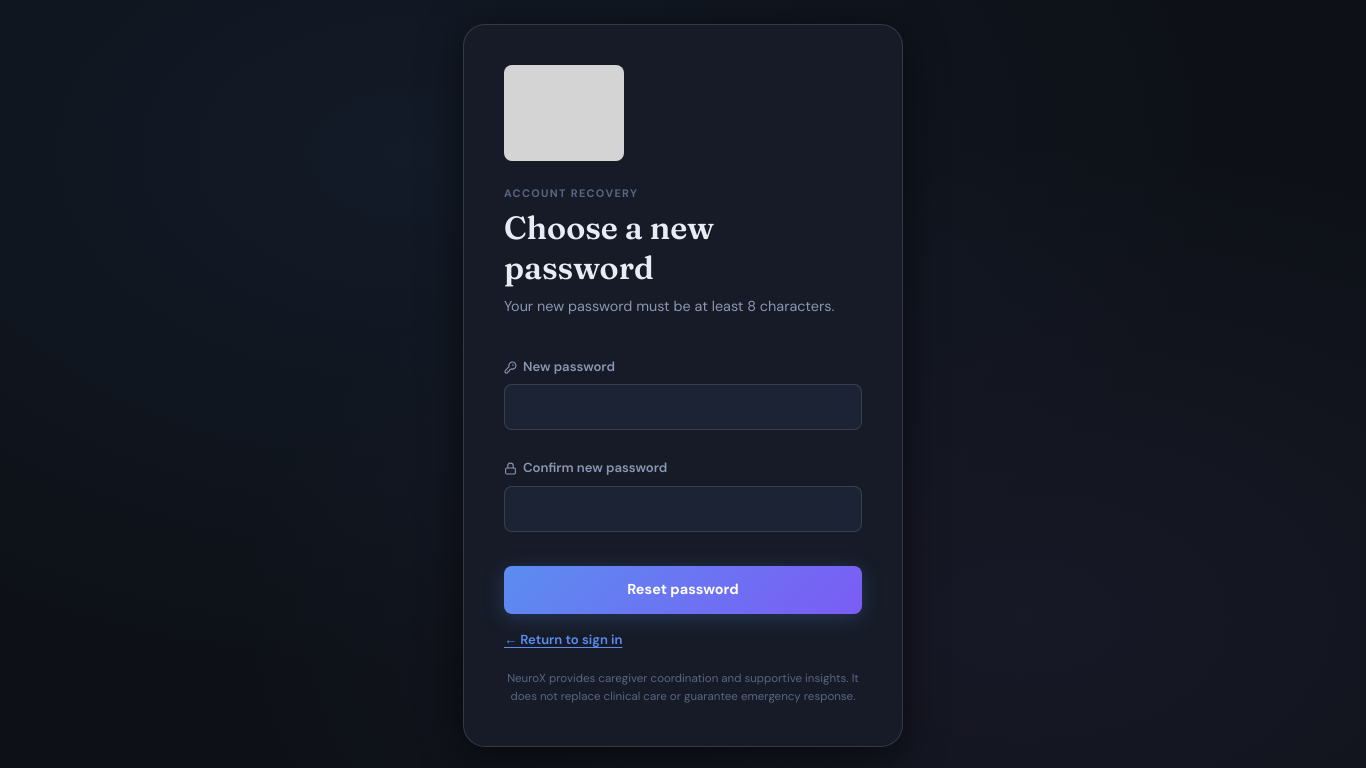
Scenario: account recovery pages › confirms a password reset token
This screenshot has width=1366, height=768.
Type "Replacement!456" into the password field labelled "New password" at [683, 407], box [504, 384, 862, 430]
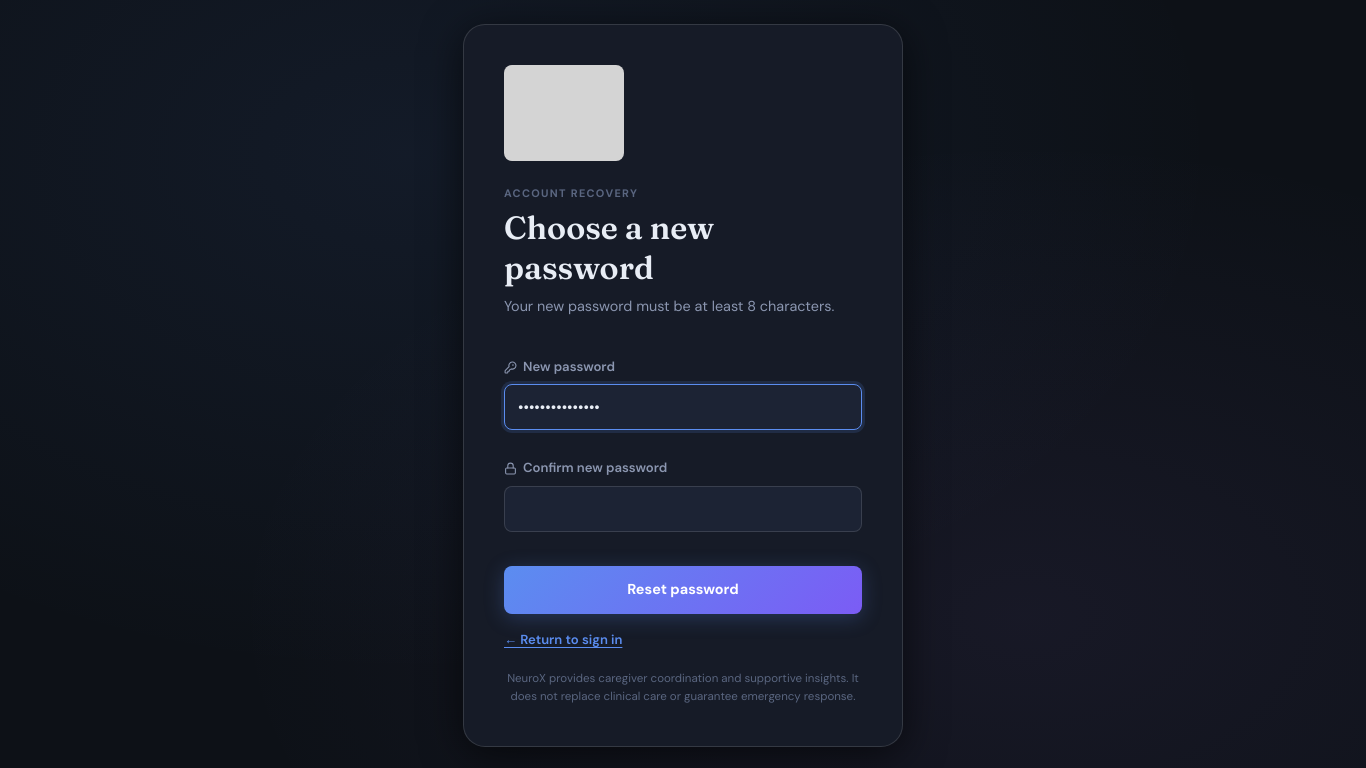
Type "Replacement!456" into the password field labelled "Confirm new password" at [683, 509], box [504, 486, 862, 532]
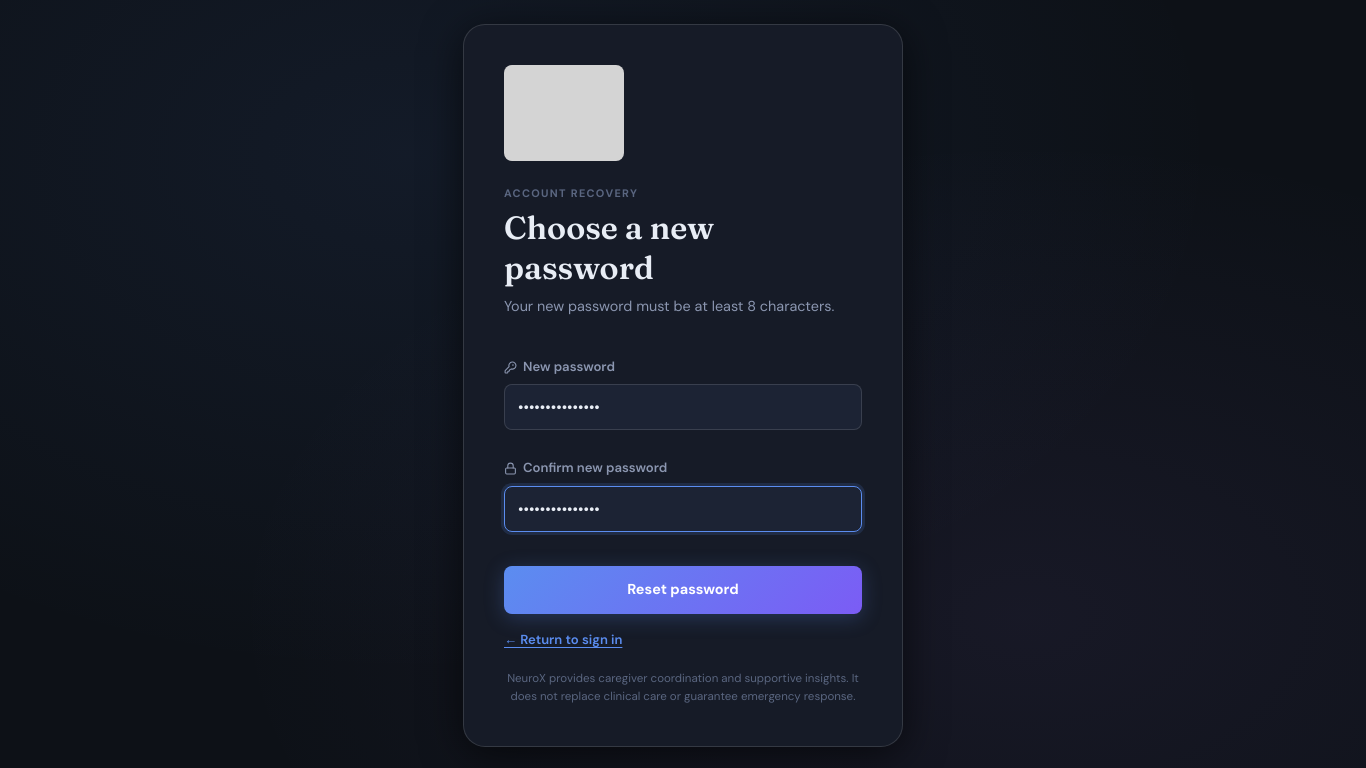
Click the button "Reset password" at [683, 590], box [504, 566, 862, 614]
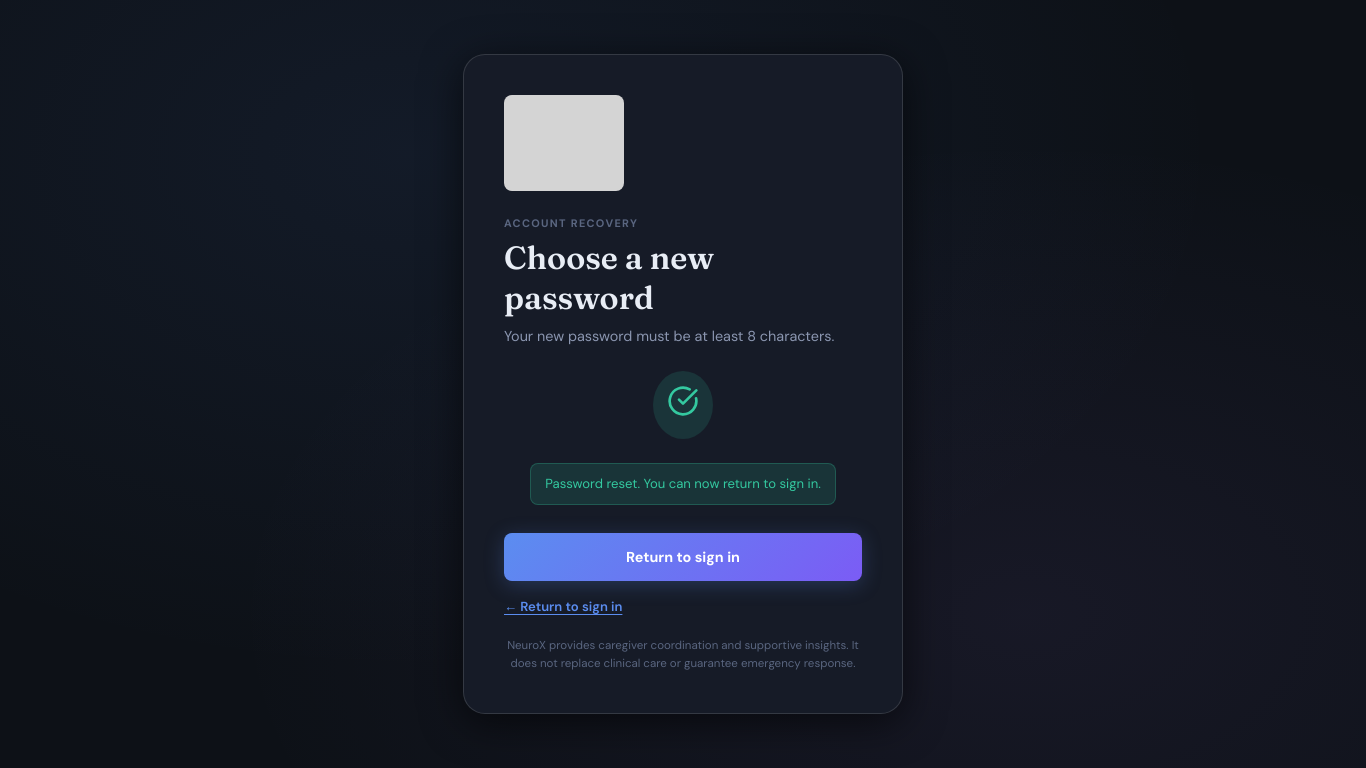
Check: the text "Password reset. You can now return to sign in." is shown, box [530, 463, 836, 505]
